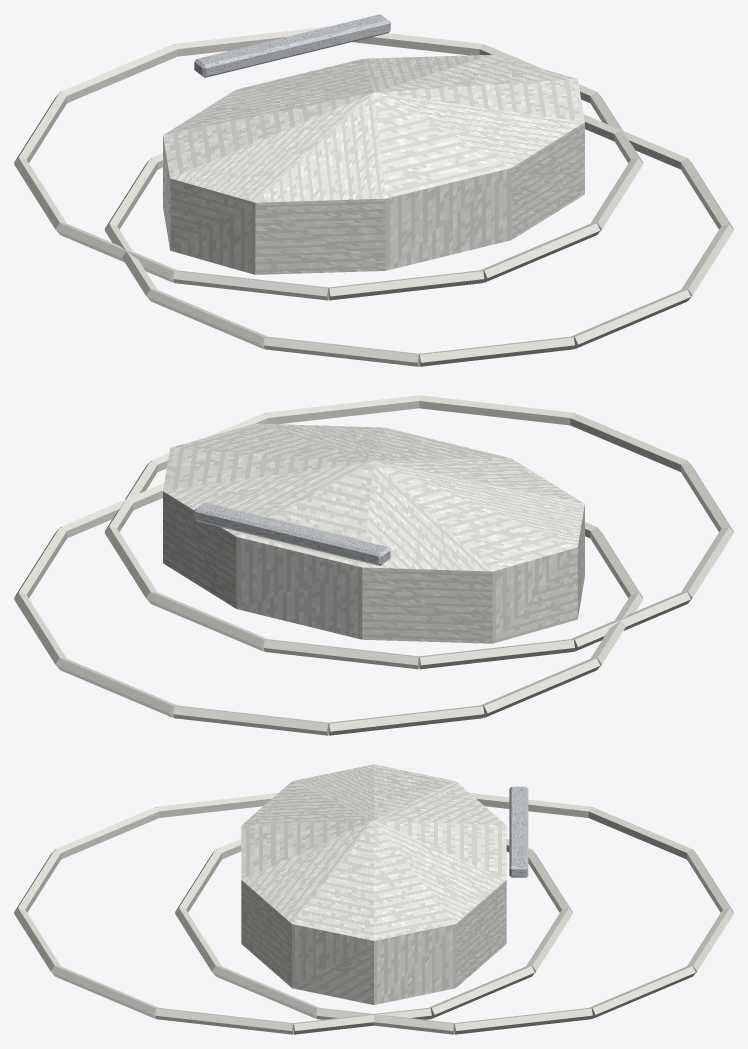
Rendered from xl_mask_dust.glb.
The picture shows the model from 3 angles, top to bottom: view 1: azimuth 30°, elevation 25°; view 2: azimuth 150°, elevation 25°; view 3: azimuth 270°, elevation 25°; orthographic projection. The views are drawn at different scales.
Parts seen in each view (by area): view 1: block_pad, block_nosewire, block_strap-0.03253, block_strap0.03254, block_strap-0.03254, block_strap0.03253, block_strap-0.03252, block_strap0.03252, block_strap0.03255, block_strap-0.03258, block_strap-0.032510, block_strap-0.03255 (+10 smaller); view 2: block_pad, block_nosewire, block_strap-0.03257, block_strap0.03258, block_strap-0.03258, block_strap0.03257, block_strap0.03252, block_strap0.03251, block_strap-0.03259, block_strap-0.03256, block_strap0.03259, block_strap0.03253 (+10 smaller); view 3: block_pad, block_nosewire, block_strap-0.032511, block_strap0.03250, block_strap-0.03250, block_strap0.032511, block_strap0.03255, block_strap-0.03251, block_strap0.032510, block_strap-0.032510, block_strap0.03251, block_strap-0.03257 (+10 smaller).
Boxes of the visible parts, box(x1,y1,x2,y2) form: block_pad: box(163, 54, 584, 274); block_nosewire: box(194, 14, 390, 77); block_strap-0.03253: box(328, 270, 484, 300); block_strap0.03254: box(263, 336, 419, 366); block_strap-0.03254: box(173, 270, 328, 300); block_strap0.03253: box(419, 336, 574, 366); block_strap-0.03252: box(480, 223, 600, 282); block_strap0.03252: box(571, 289, 690, 348); block_strap0.03255: box(148, 289, 267, 348); block_strap-0.03258: box(60, 44, 177, 103); block_strap-0.032510: box(352, 33, 483, 55); block_strap-0.03255: box(57, 223, 176, 282); block_pad: box(163, 423, 584, 643); block_nosewire: box(194, 502, 390, 565); block_strap-0.03257: box(328, 705, 484, 735); block_strap0.03258: box(263, 639, 419, 669); block_strap-0.03258: box(173, 705, 328, 735); block_strap0.03257: box(419, 639, 574, 669); block_strap0.03252: box(419, 395, 573, 425); block_strap0.03251: box(264, 395, 419, 424); block_strap-0.03259: box(57, 658, 177, 717); block_strap-0.03256: box(480, 658, 600, 717); block_strap0.03259: box(147, 592, 267, 651); block_strap0.03253: box(570, 413, 687, 471); block_pad: box(241, 764, 506, 1004); block_nosewire: box(509, 786, 528, 877); block_strap-0.032511: box(454, 1008, 592, 1034); block_strap0.03250: box(155, 1008, 293, 1034); block_strap-0.03250: box(316, 1008, 454, 1034); block_strap0.032511: box(293, 1008, 431, 1034); block_strap0.03255: box(156, 793, 277, 817); block_strap-0.03251: box(213, 966, 319, 1018); block_strap0.032510: box(428, 966, 534, 1018); block_strap-0.032510: box(589, 966, 695, 1018); block_strap0.03251: box(52, 966, 158, 1018); block_strap-0.03257: box(588, 807, 692, 859).
Bounding box in the file's own units: 0.2258 × 0.0572 × 0.2908.
2 materials, 2 textured.
